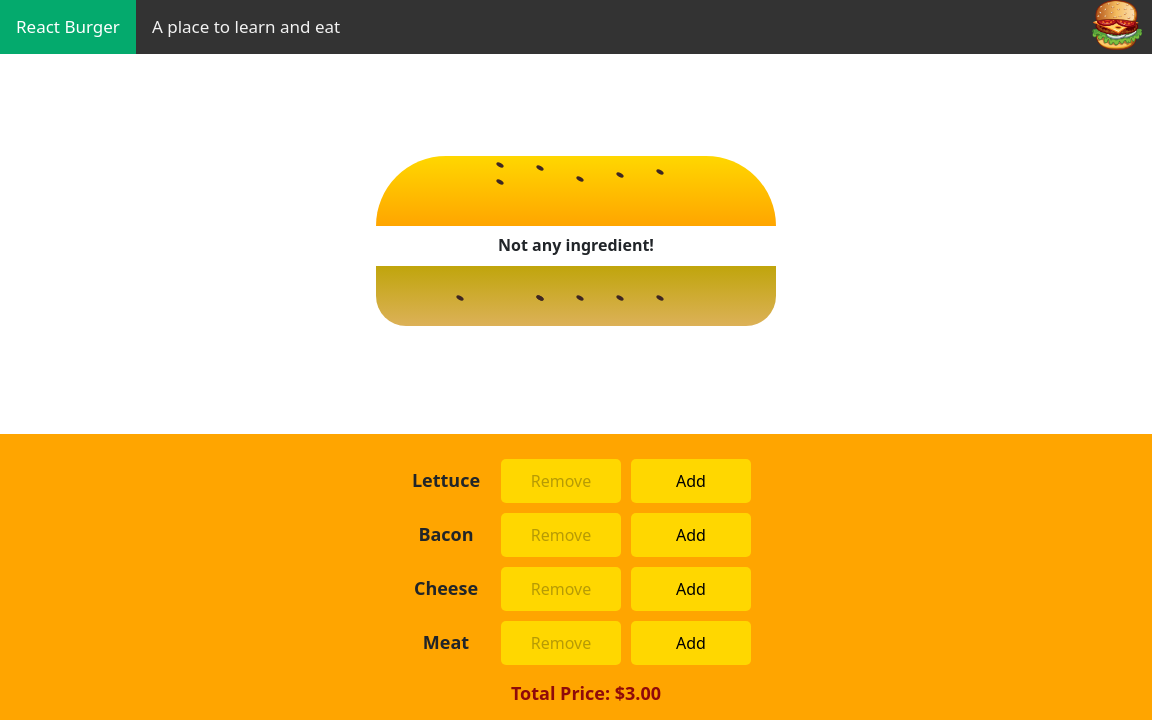
Test: remove all restores the empty burger
The width and height of the screenshot is (1152, 720).
Step 1. Click the button with aria-label "Add meat" → x=691, y=642, box [631,620,751,664]
(page scrolled)
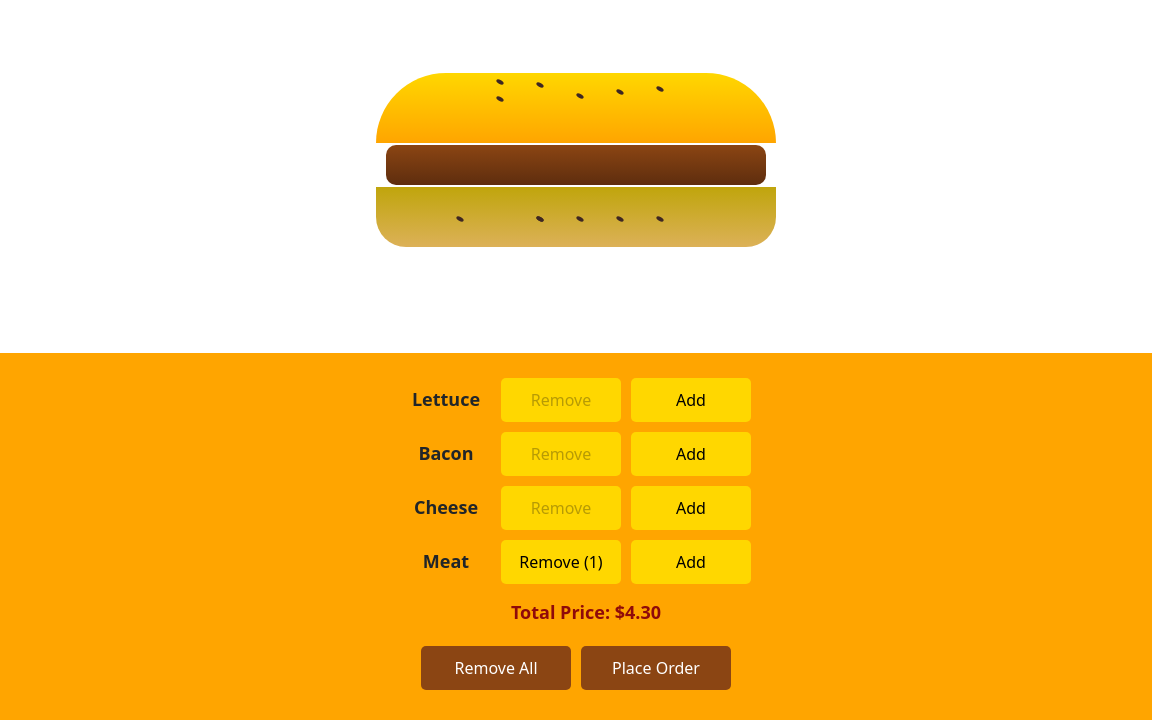
Step 2. Click the button "Remove All" → x=496, y=668, box [421,646,571,690]
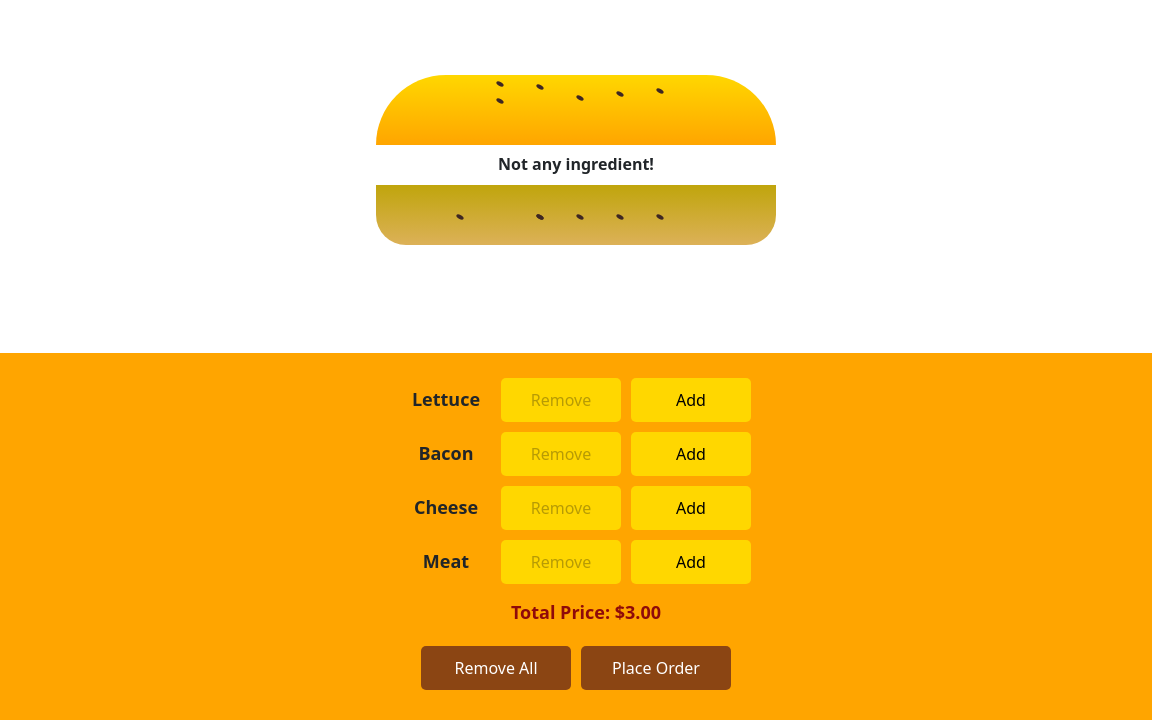
Expected: the text "Total Price: $3.00" is shown, [511,598,661,626]
Expected: the button with aria-label "Remove meat" is disabled, [501,540,621,584]
